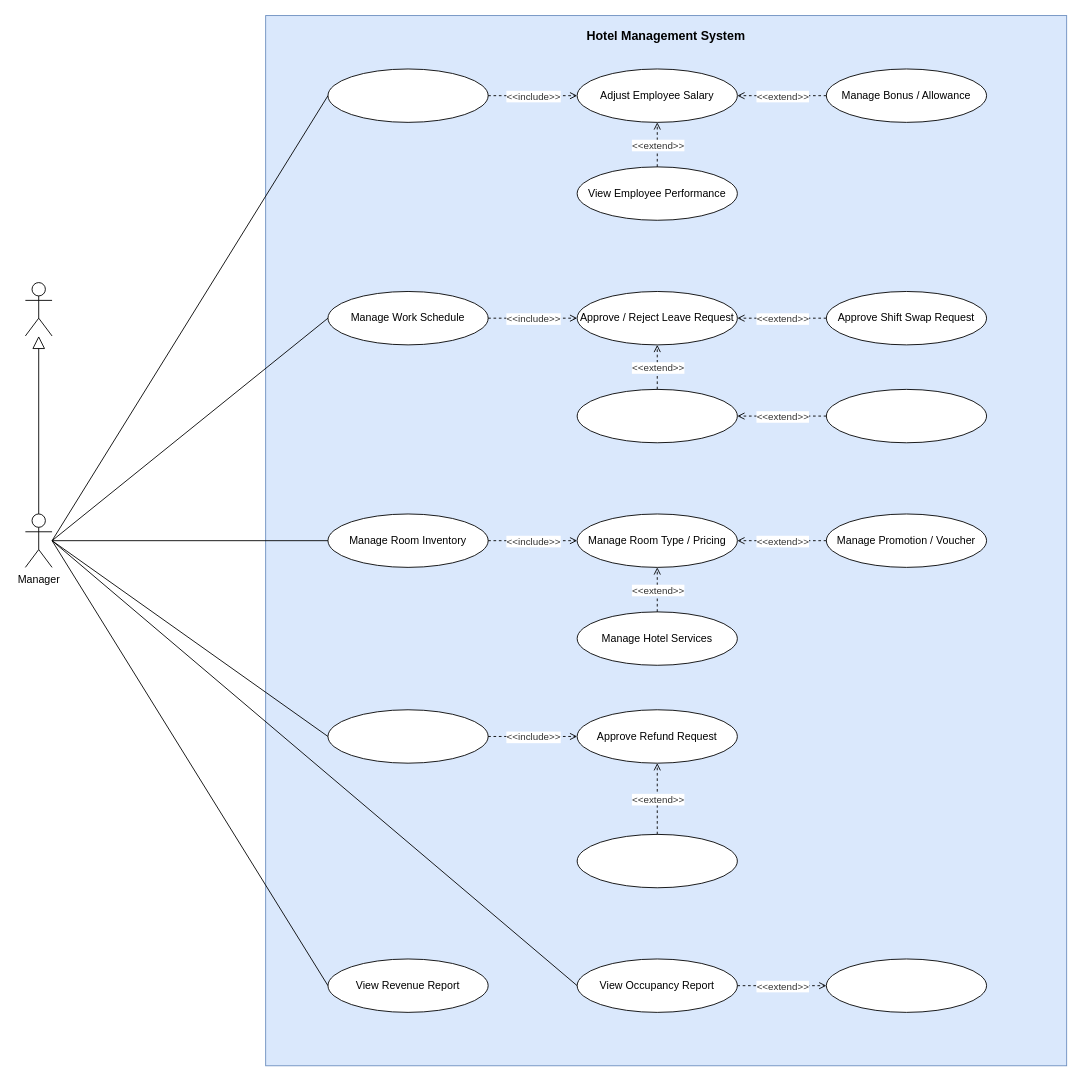
The diagram is 1082 pixels wide and 1081 high, and some of its shapes have lost their labels. The centre of each missing label's shape, as x and y in pixels:
"Approve Attendance Correction" belongs at (x=656, y=415).
"Approve Booking Cancellation" belongs at (x=407, y=736).
"Approve Payroll" belongs at (x=906, y=415).
"Employee" belongs at (x=38, y=309).
"Export Report" belongs at (x=906, y=985).
"Manage Salary Structure" belongs at (x=407, y=95).
"Moderate Customer Review" belongs at (x=656, y=860).
